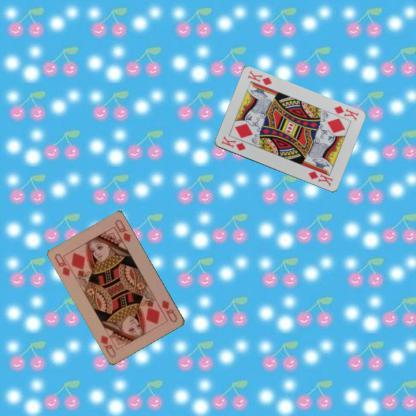Kd: (218, 133, 247, 152), (331, 103, 359, 122)
Qd: (52, 251, 76, 277), (159, 298, 178, 324)
